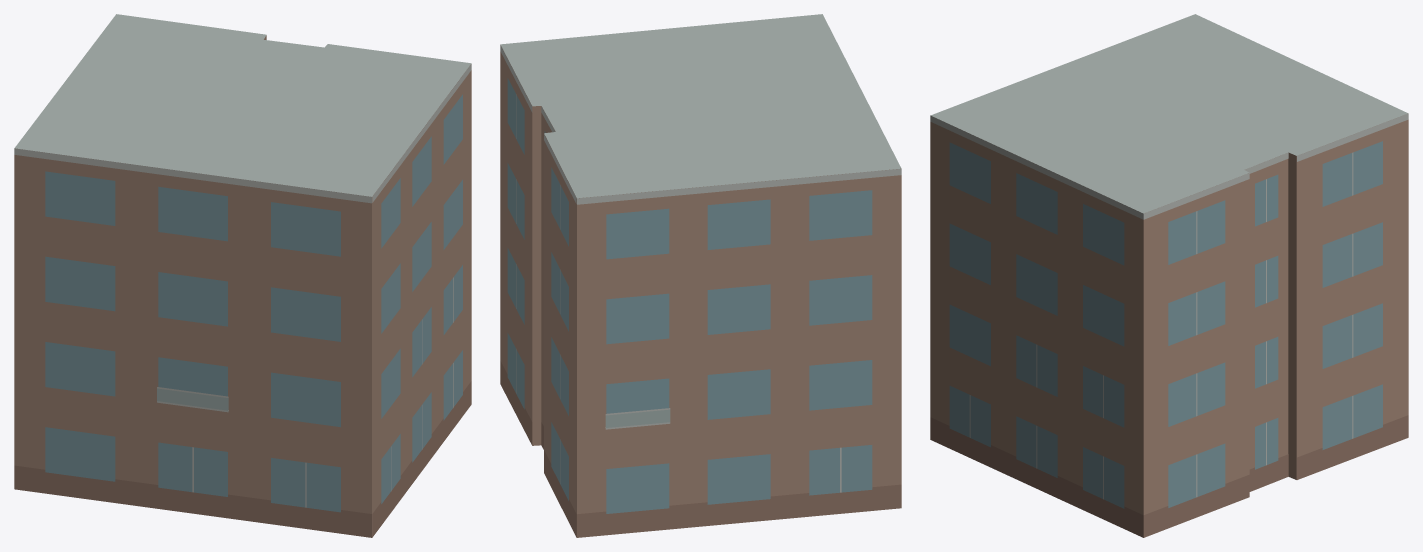
Rendered from survey-upis-32744927.glb.
3 renders of one model, left to right at view 1: azimuth 30°, elevation 25°; view 2: azimuth 150°, elevation 25°; view 3: azimuth 270°, elevation 25°, orthographic. The views are drawn at different scales.
Visible parts, largest first — view 1: survey-upis-32744927.tmp; view 2: survey-upis-32744927.tmp; view 3: survey-upis-32744927.tmp.
Boxes of the visible parts, x1,y1,x2,y2 form: survey-upis-32744927.tmp: (14,14,471,537); survey-upis-32744927.tmp: (500,14,901,537); survey-upis-32744927.tmp: (930,14,1408,537).
Size of the model in its own units: 16.91 by 12.8 by 17.11.
